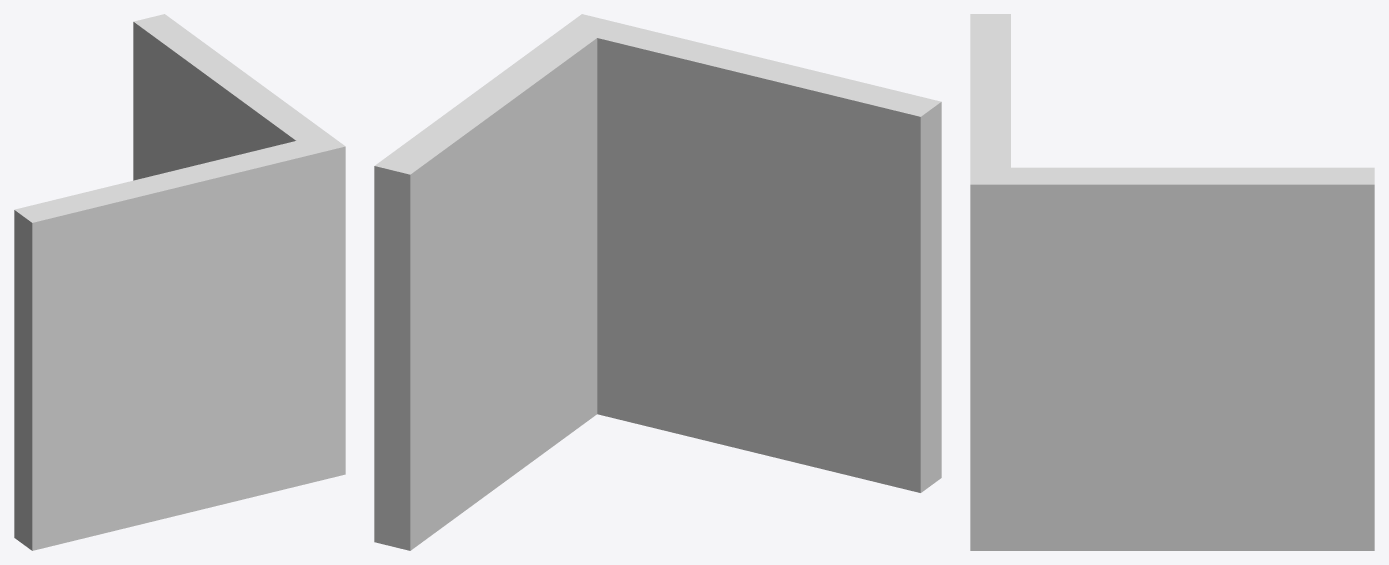
Rendered from PlainCornerHalfWall.glb.
3 renders of one model, left to right at view 1: azimuth 30°, elevation 25°; view 2: azimuth 150°, elevation 25°; view 3: azimuth 270°, elevation 25°, orthographic. The views are drawn at different scales.
Visible parts, largest first — view 1: PlainCornerHalfWall; view 2: PlainCornerHalfWall; view 3: PlainCornerHalfWall.
Boxes of the visible parts, x1,y1,x2,y2 form: PlainCornerHalfWall: (14, 14, 345, 550); PlainCornerHalfWall: (374, 14, 941, 550); PlainCornerHalfWall: (970, 14, 1374, 550).
Size of the model in its own units: 1 by 1 by 1.
1 material, 1 textured.
